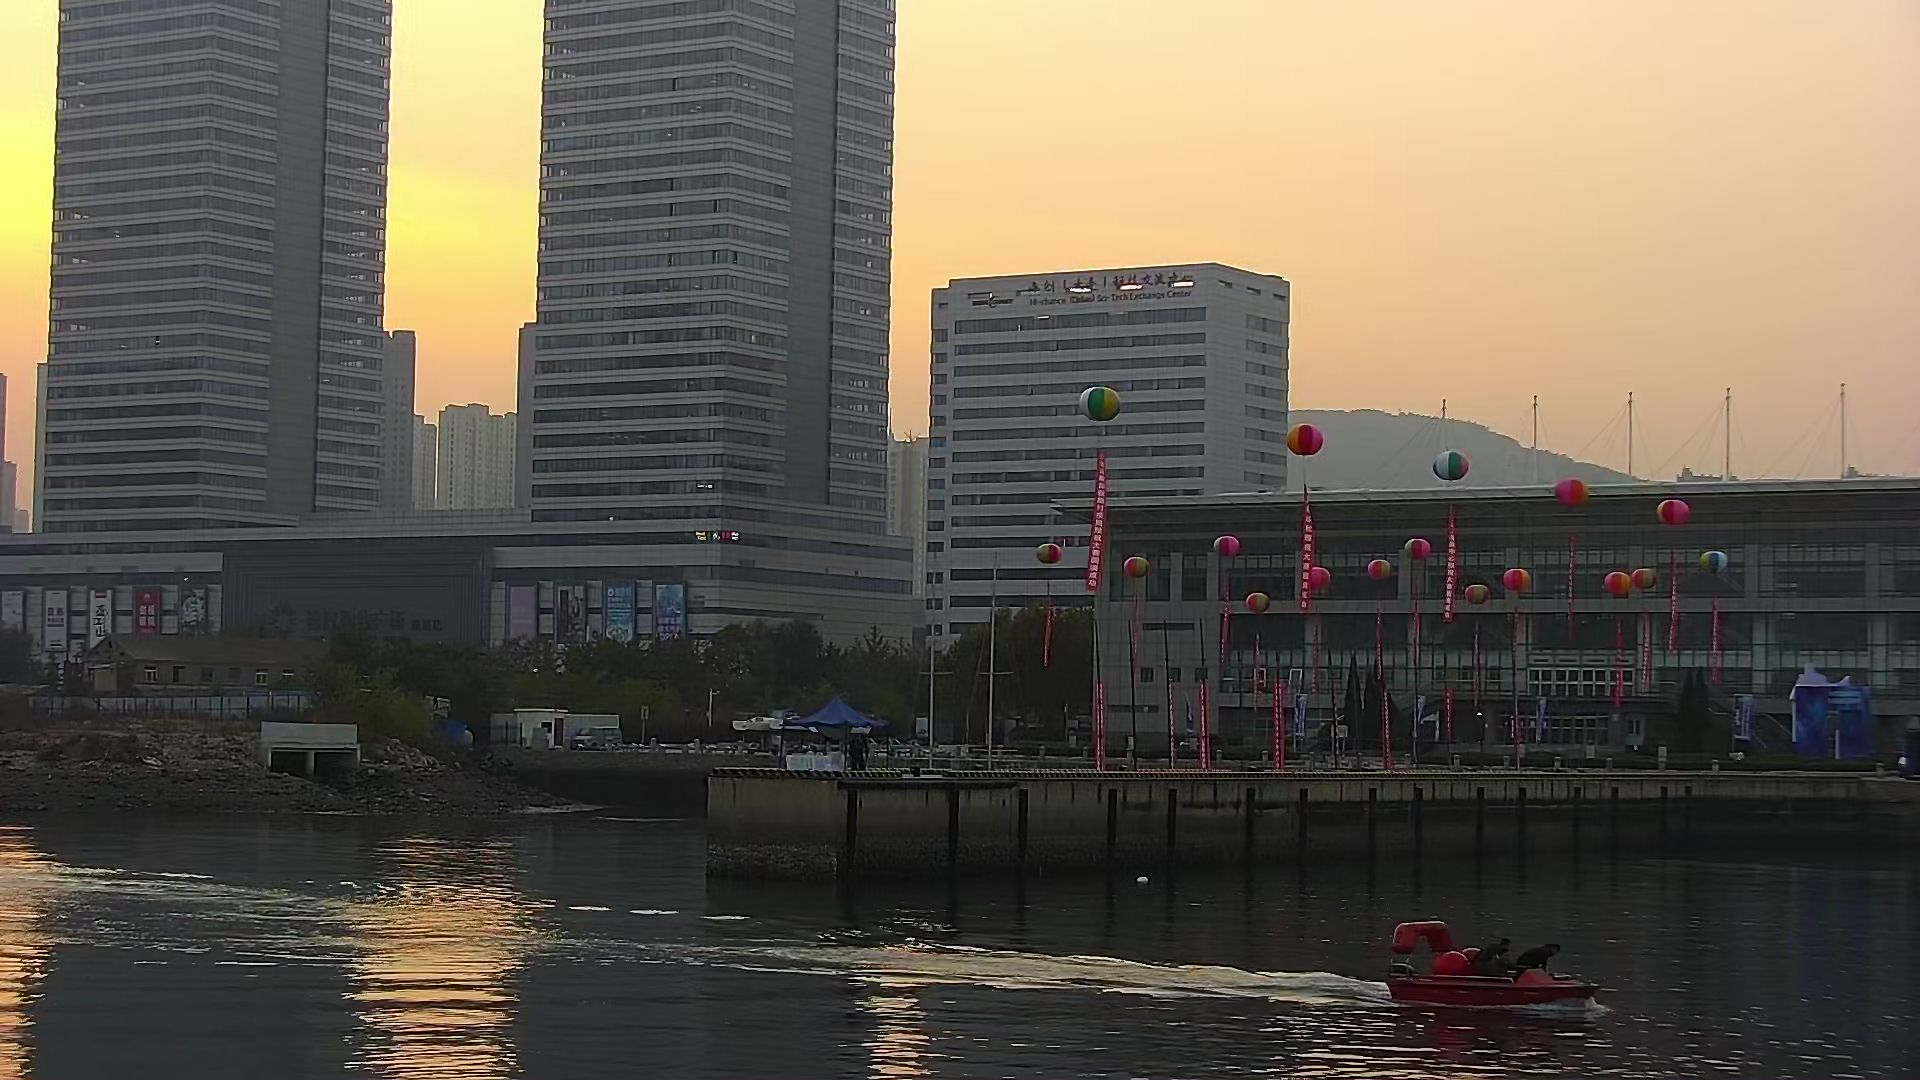boat: (1383, 916, 1604, 1021)
